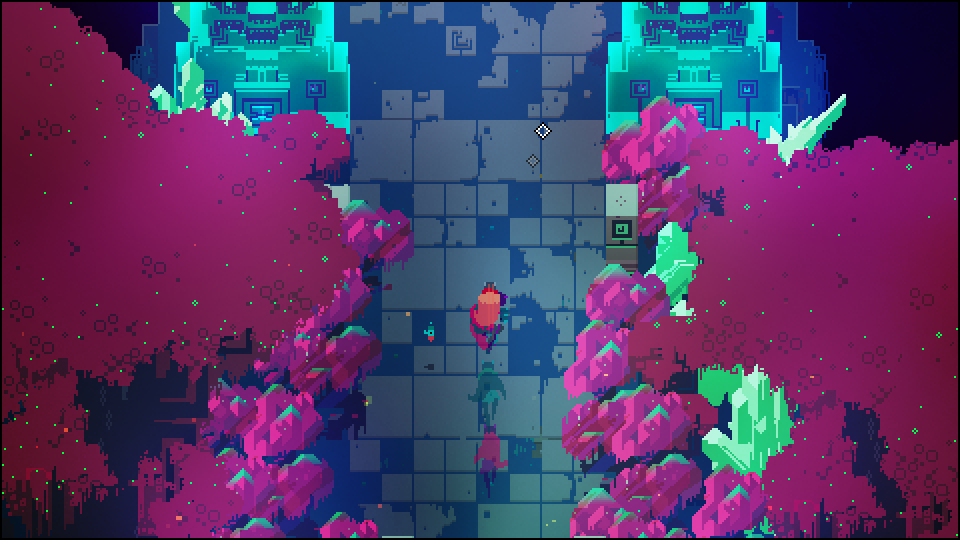player: (468, 279, 505, 336)
